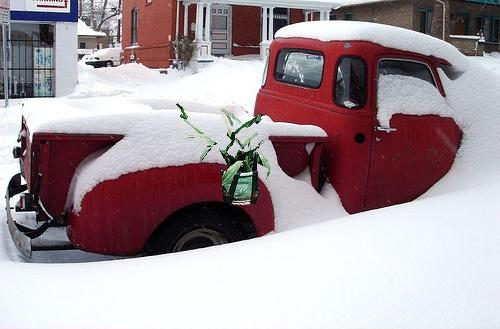tampered: (177, 104, 270, 205)
